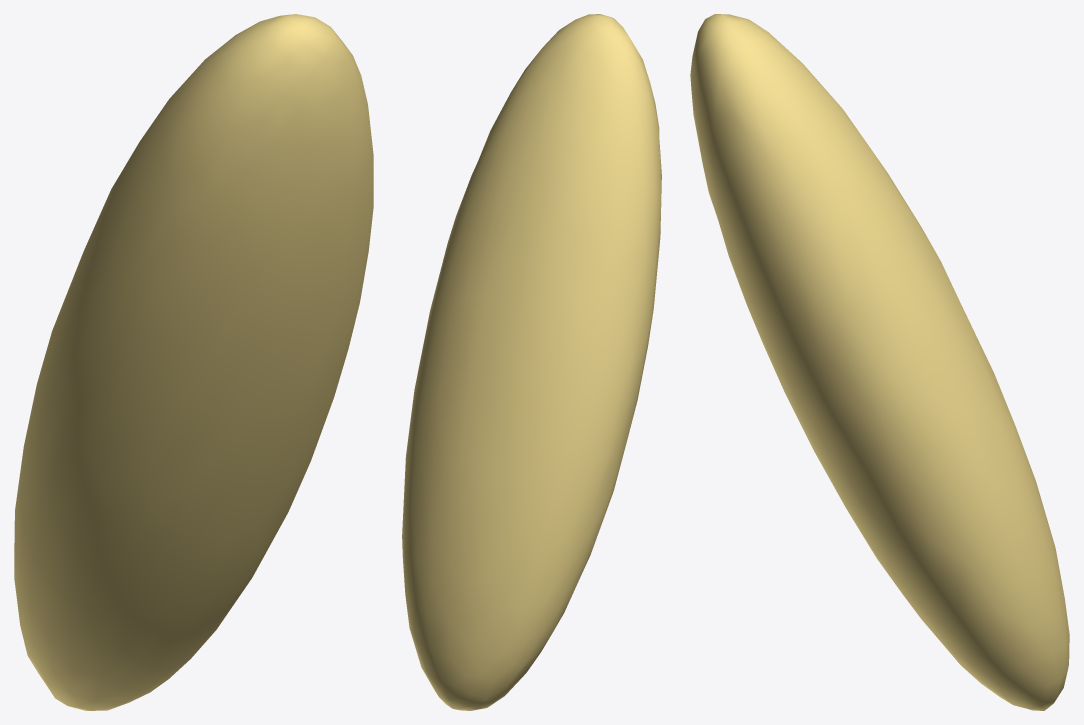
The model's file is fma73568_mm2655m.glb.
3 renders of one model, left to right at view 1: azimuth 30°, elevation 25°; view 2: azimuth 150°, elevation 25°; view 3: azimuth 270°, elevation 25°, orthographic. The views are drawn at different scales.
Visible parts, largest first — view 1: FMA73568_MM2655M; view 2: FMA73568_MM2655M; view 3: FMA73568_MM2655M.
Boxes of the visible parts, x1=… form: FMA73568_MM2655M: x1=14, y1=14, x2=373, y2=710; FMA73568_MM2655M: x1=402, y1=14, x2=661, y2=710; FMA73568_MM2655M: x1=690, y1=14, x2=1069, y2=710.
Bounding box in the file's own units: 0.00176 × 0.00496 × 0.00247.
